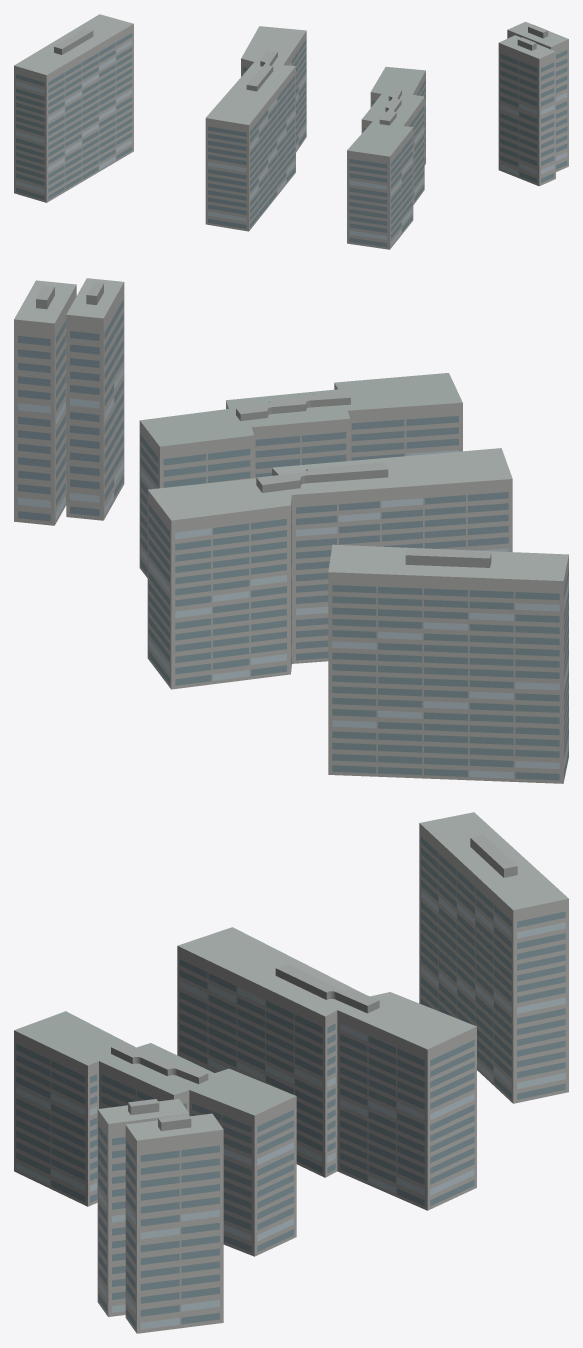
Rendered from apt-a15210102.glb.
3 views of the same model, one above another, from view 1: azimuth 30°, elevation 25°; view 2: azimuth 150°, elevation 25°; view 3: azimuth 270°, elevation 25° (orthographic). The views are drawn at different scales.
Visible parts, largest first — view 1: apt-a15210102; view 2: apt-a15210102; view 3: apt-a15210102.
Boxes of the visible parts, x1,y1,x2,y2 form: apt-a15210102: (14,14,568,249); apt-a15210102: (14,278,568,783); apt-a15210102: (14,812,568,1333).
Bounding box in the file's own units: 167 × 48 × 119.
